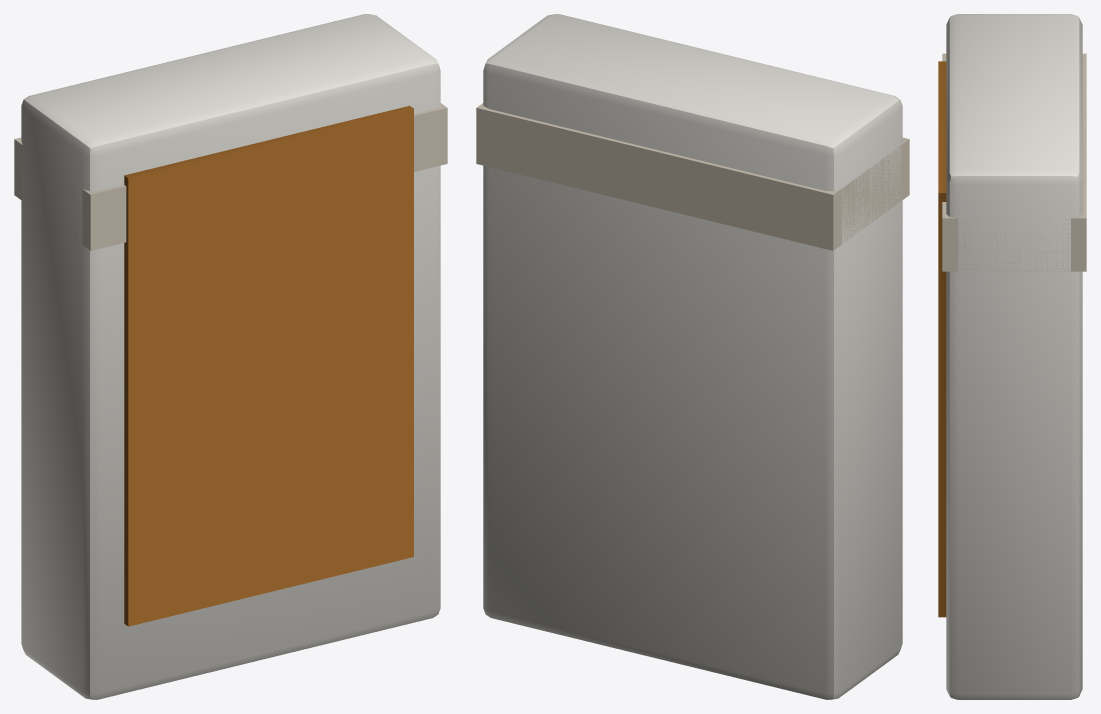
Rendered from cereal_box.glb.
The picture shows the model from 3 angles, left to right: view 1: azimuth 30°, elevation 25°; view 2: azimuth 150°, elevation 25°; view 3: azimuth 270°, elevation 25°; orthographic projection. The views are drawn at different scales.
Visible parts, largest first — view 1: cereal_box; view 2: cereal_box; view 3: cereal_box.
Part boxes in pixels (x1,y1,x2,y2): cereal_box: (14,14,447,699); cereal_box: (476,14,909,699); cereal_box: (938,14,1086,699).
Size of the model in its own units: 0.2 by 0.3 by 0.076.
